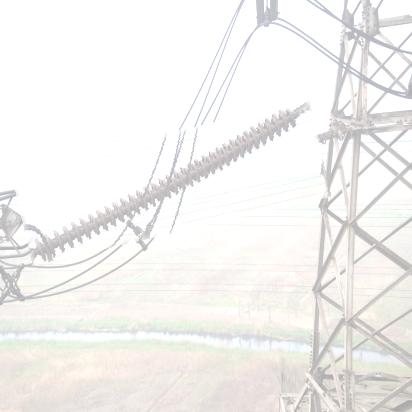insulator: (15, 118, 329, 250)
